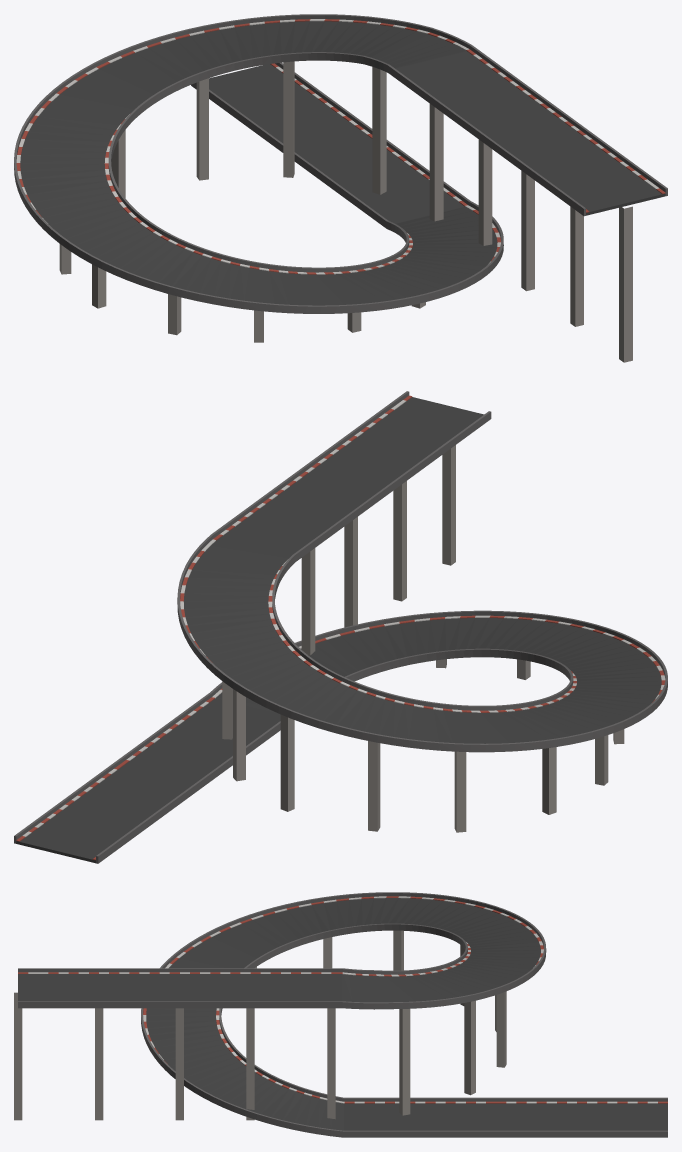
The model's file is tp-corkscrew-helix-left.glb.
The picture shows the model from 3 angles, top to bottom: view 1: azimuth 30°, elevation 25°; view 2: azimuth 150°, elevation 25°; view 3: azimuth 270°, elevation 25°; orthographic projection. The views are drawn at different scales.
Parts seen in each view (by area): view 1: tp-corkscrew-helix-left; view 2: tp-corkscrew-helix-left; view 3: tp-corkscrew-helix-left.
Part boxes in pixels (<box>): tp-corkscrew-helix-left: <box>14,14,667,362</box>; tp-corkscrew-helix-left: <box>14,391,667,863</box>; tp-corkscrew-helix-left: <box>14,892,667,1137</box>.
Size of what is drawn, in the model's own units: 77.89 by 28.78 by 126.
Materials: 1 (1 with a texture image).
